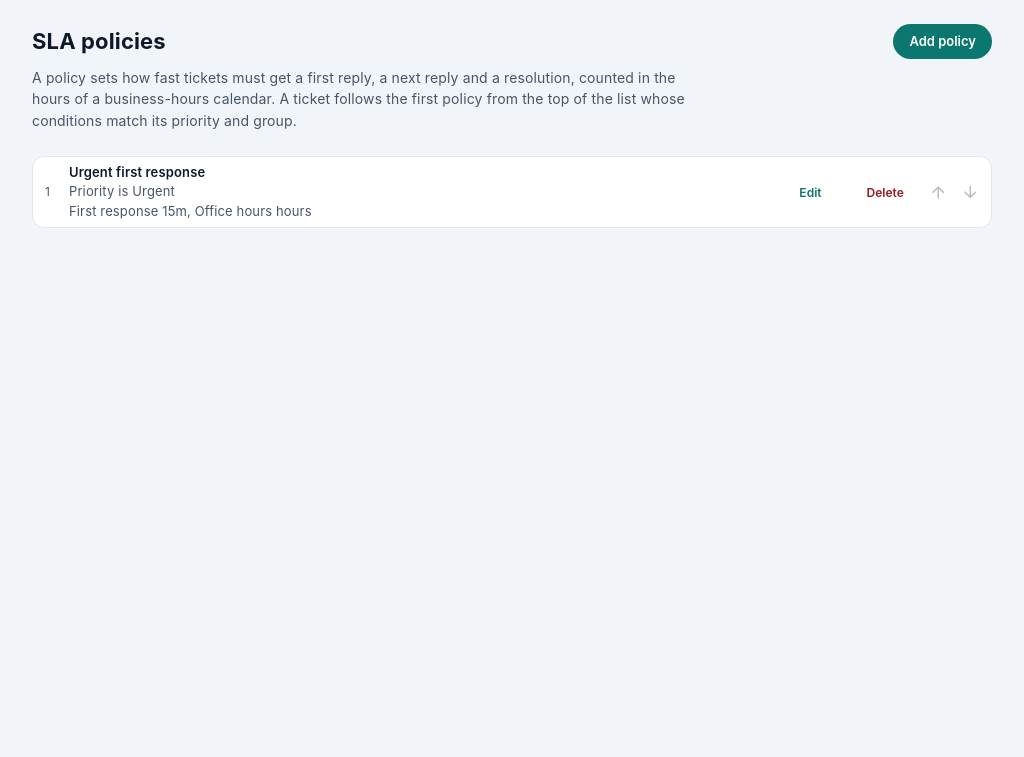
Test: SlaPoliciesPage › adds a policy: blank targets are null, "every ticket" is sent as all four priorities, and it lands at the end
The width and height of the screenshot is (1024, 757).
Click the button "Add policy": (943, 41) [893,24,992,59]
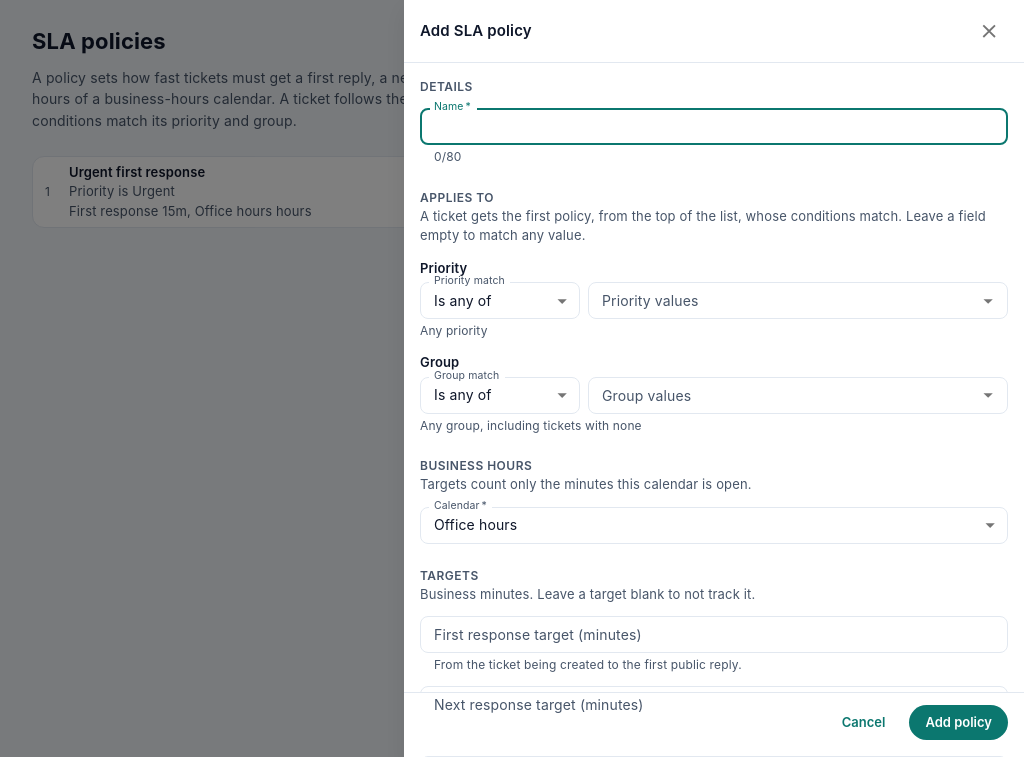
In the field labelled "Name *": (714, 127) [420,108,1008,145], type "Catch all"
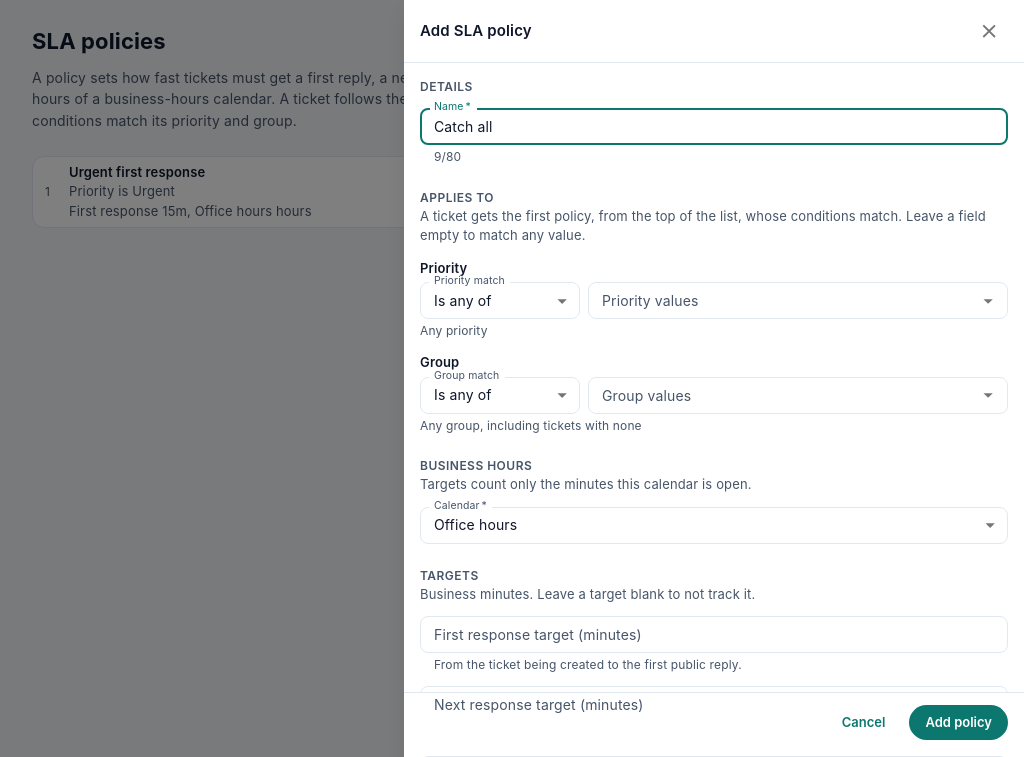
Check: the dropdown named "Calendar" reads "Office hours", box [434,516,517,533]
In the number field labelled "First response target (minutes)": (714, 635) [420,616,1008,653], type "90"
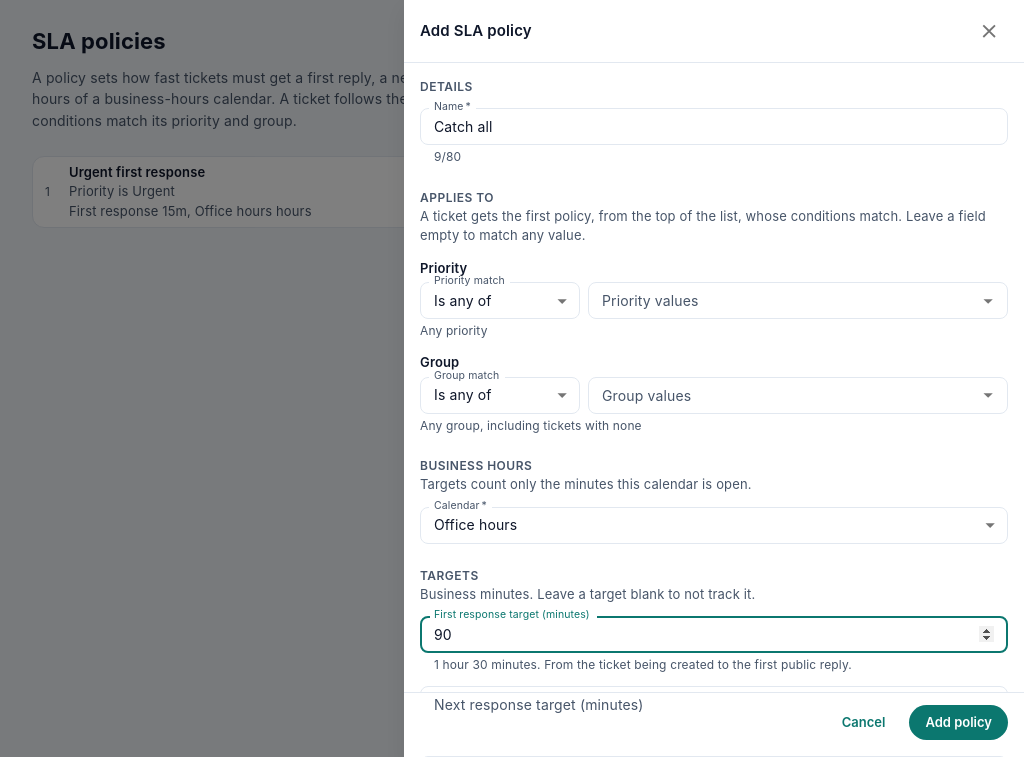
Check: the text "1 hour 30 minutes." is shown, box [434,657,852,672]
Click the button "Add policy": (959, 723) [909,705,1008,740]
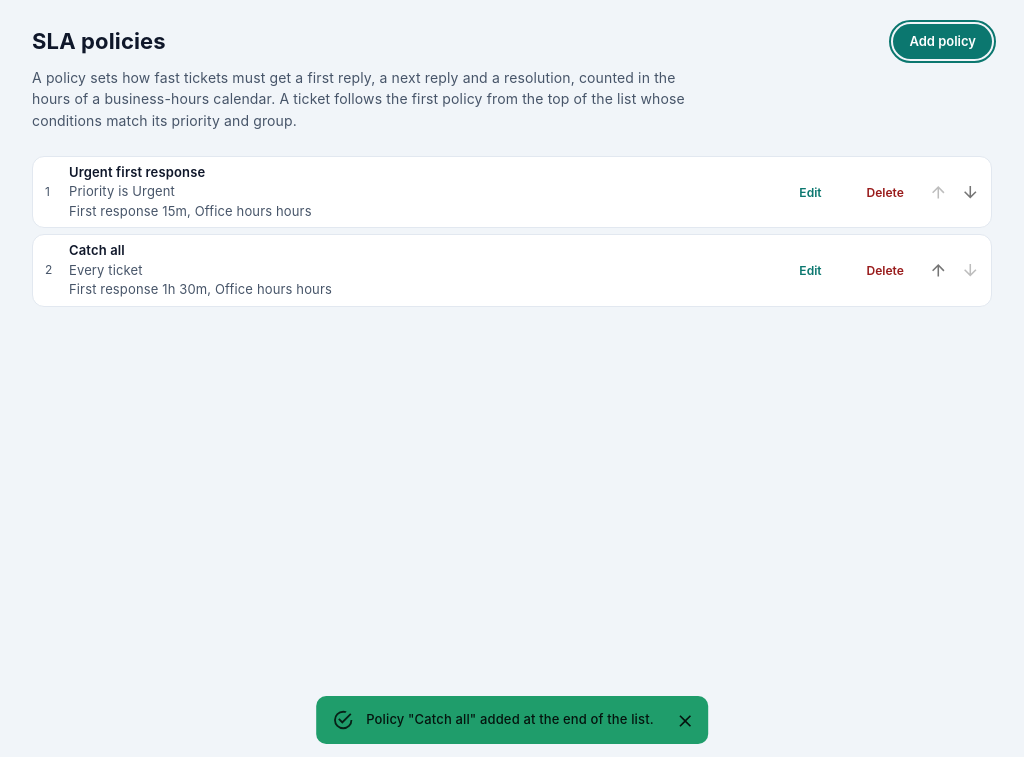
Check: the text "Catch all" is shown, box [69,241,125,261]
Check: the heading "Add SLA policy" is gone
